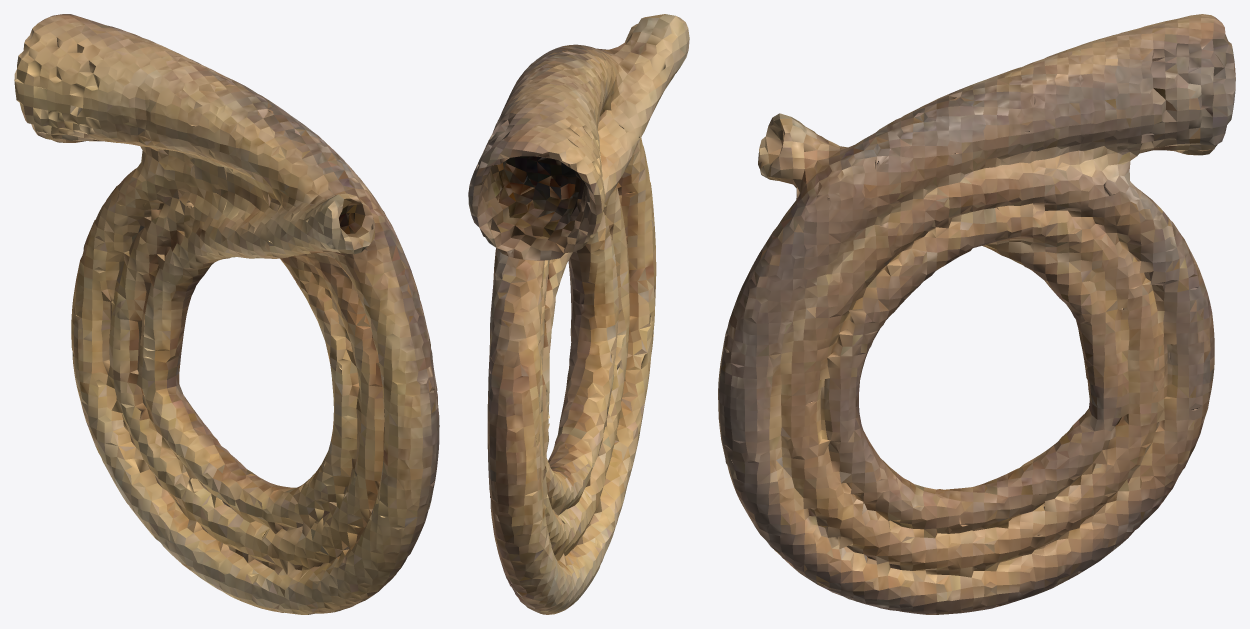
File: crab-call.glb
3 views of the same model, side by side, from view 1: azimuth 30°, elevation 25°; view 2: azimuth 150°, elevation 25°; view 3: azimuth 270°, elevation 25° (orthographic). The views are drawn at different scales.
Size of the model in its own units: 0.0448 by 0.105 by 0.09.
1 material, 1 textured.
